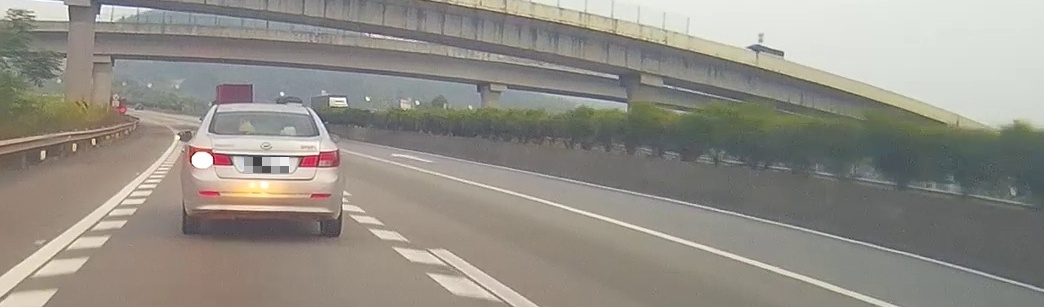L_light: (187, 144, 234, 166)
R_light: (297, 149, 340, 168)
T_light: (250, 132, 279, 135)
day-left: (181, 103, 343, 237)
plate_1: (244, 157, 289, 173)
